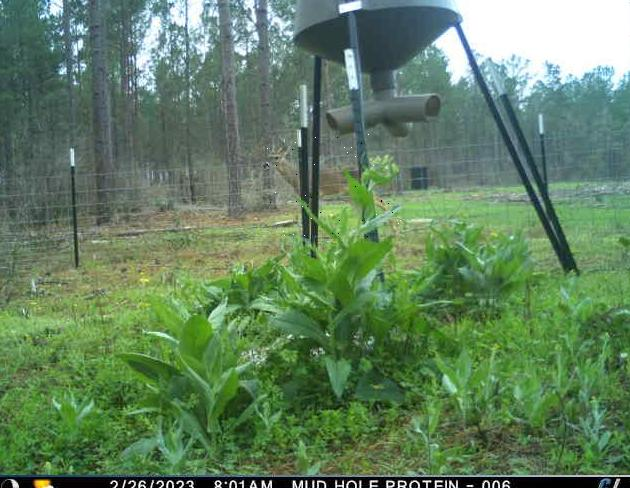Deer: (261, 135, 402, 241)
